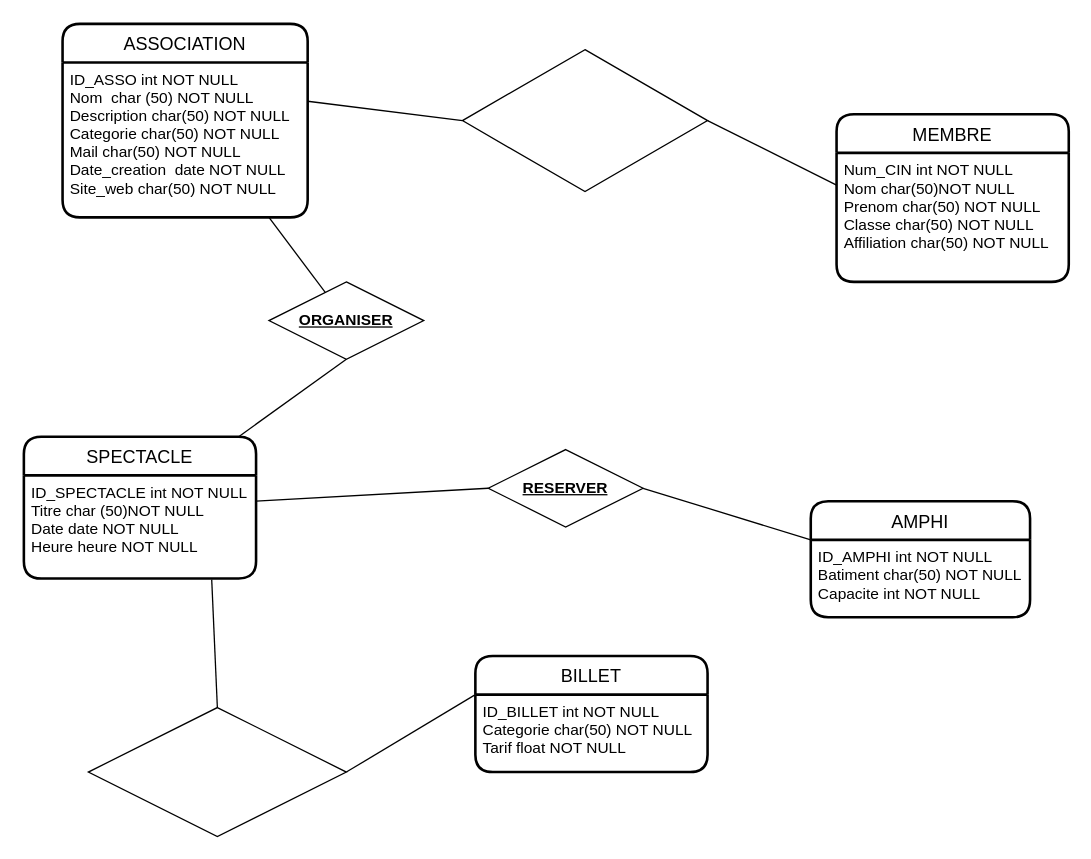
Image size: 1091x859. Some labels were removed from this diagram. The centre of each missing label's shape, as x and y in pixels:
"ENREGISTRER Date_creation date NOT NULL" goes at pixel 584 120.
"GERER Nbre_billet int NOT NULL Date_creation date NOT NULL" goes at pixel 216 771.
